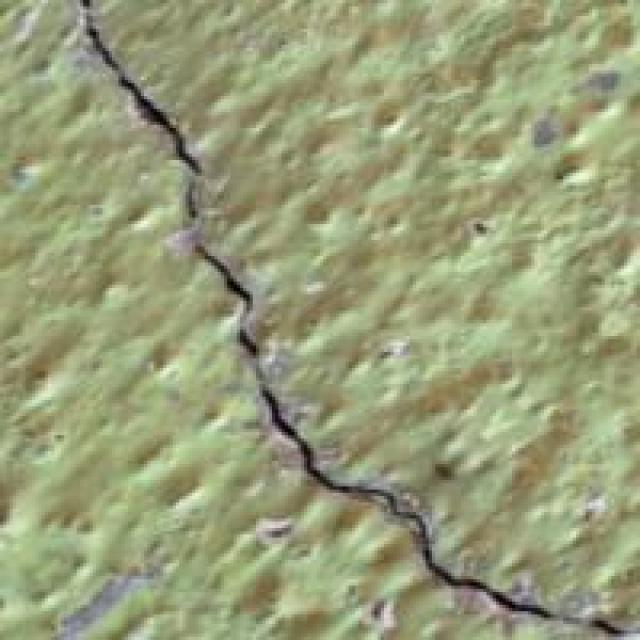Crack: (83, 10, 633, 637)
